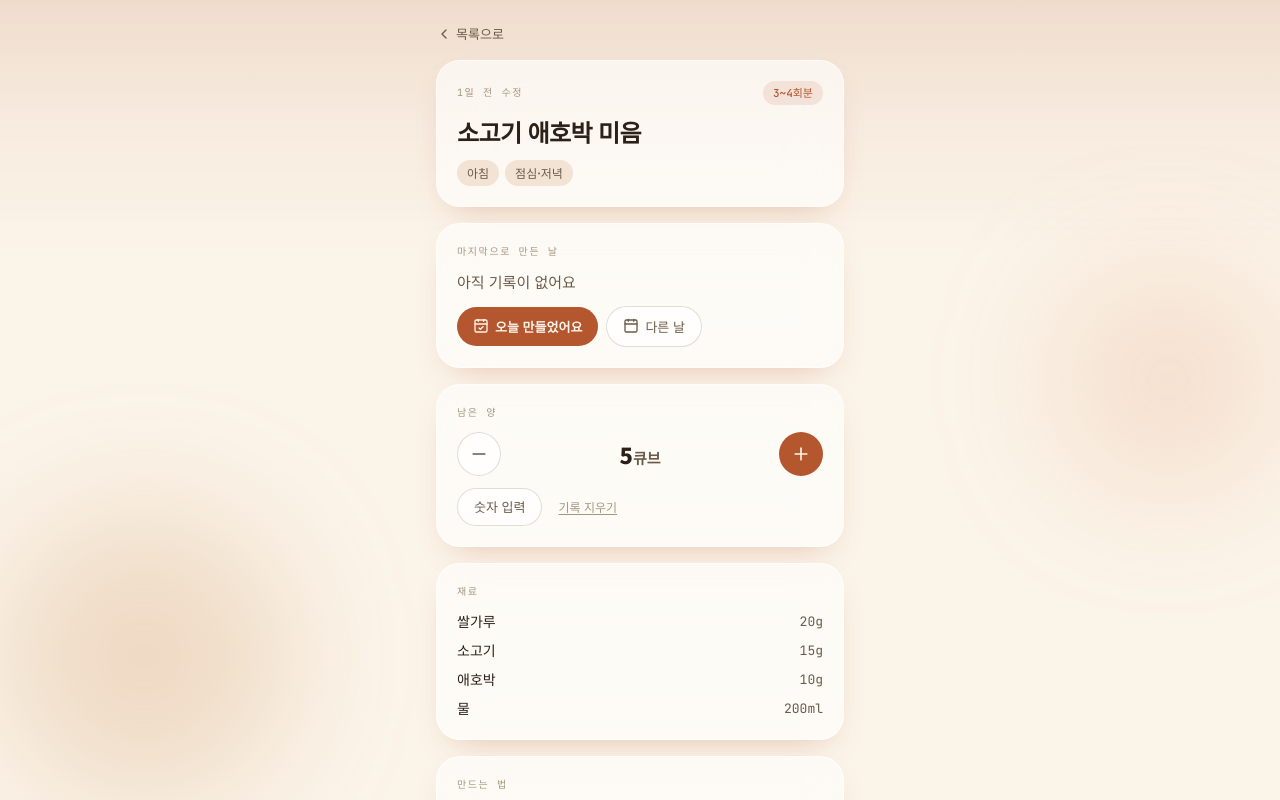
RecipeDetailScreen › changes how much is left with − and +
Expected: the element with test id "leftover" reads "5큐브", top-left (620, 438), bottom-right (660, 470)
Click the button named "하나 줄이기" at x=479, y=454, box top-left (457, 432), bottom-right (501, 476)
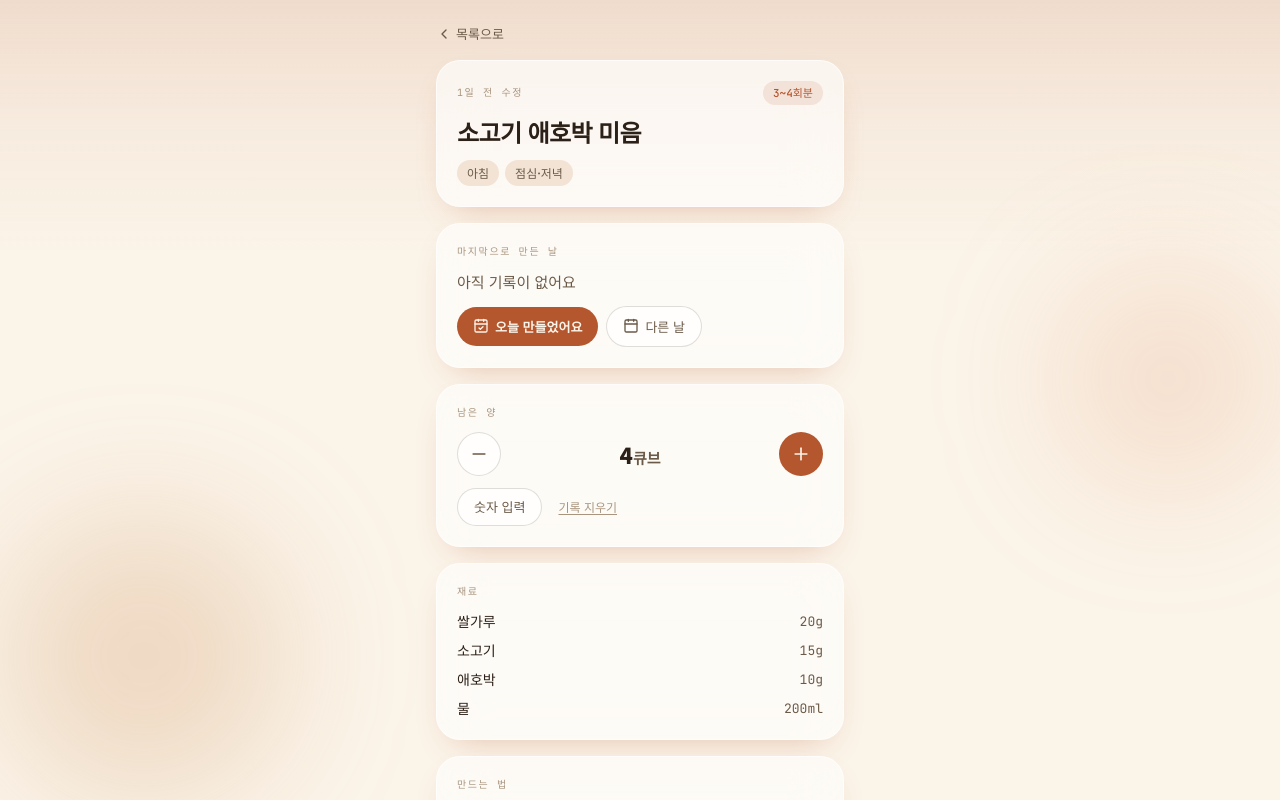
Result: the element with test id "leftover" reads "4큐브" at top-left (620, 438), bottom-right (660, 470)
Click the button named "하나 늘리기" at x=801, y=454, box top-left (779, 432), bottom-right (823, 476)
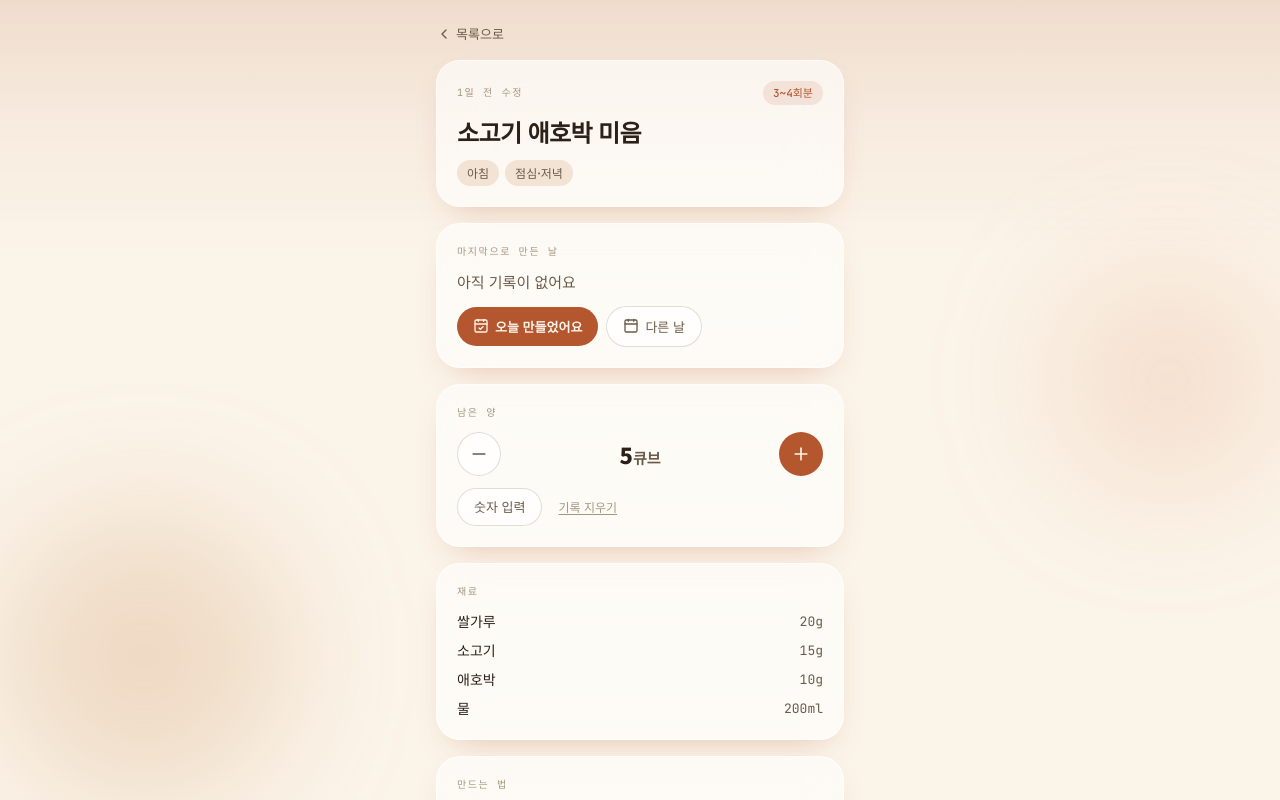
Result: the element with test id "leftover" reads "5큐브" at top-left (620, 438), bottom-right (660, 470)
Click the button named "하나 늘리기" at x=801, y=454, box top-left (779, 432), bottom-right (823, 476)
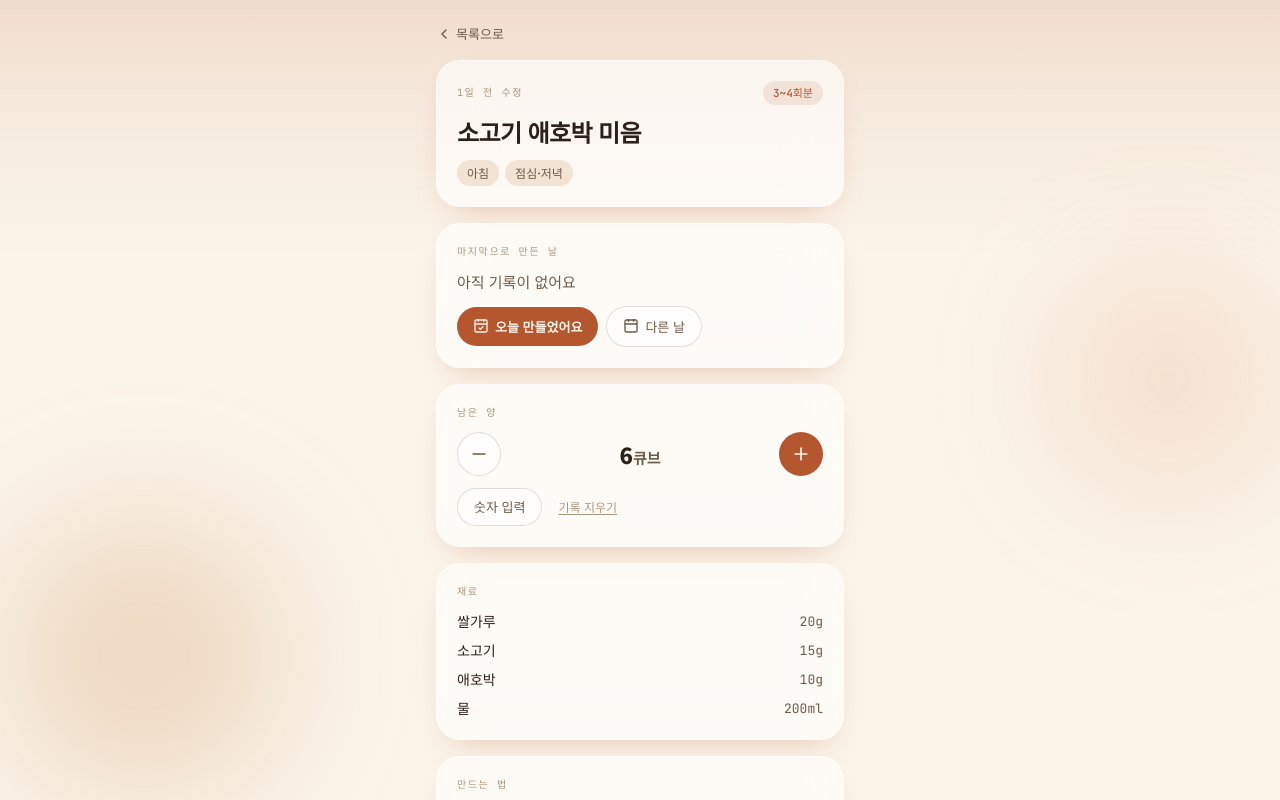
Result: the element with test id "leftover" reads "6큐브" at top-left (620, 438), bottom-right (660, 470)
